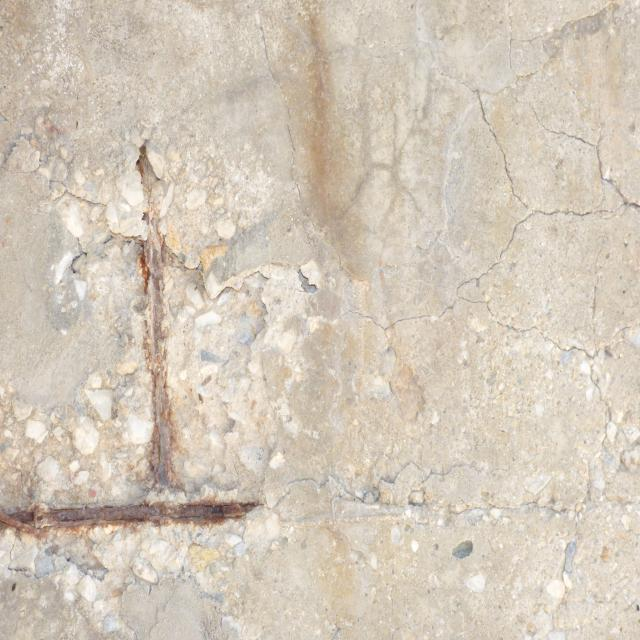corrosion: (119, 124, 205, 483), (0, 483, 272, 552)
